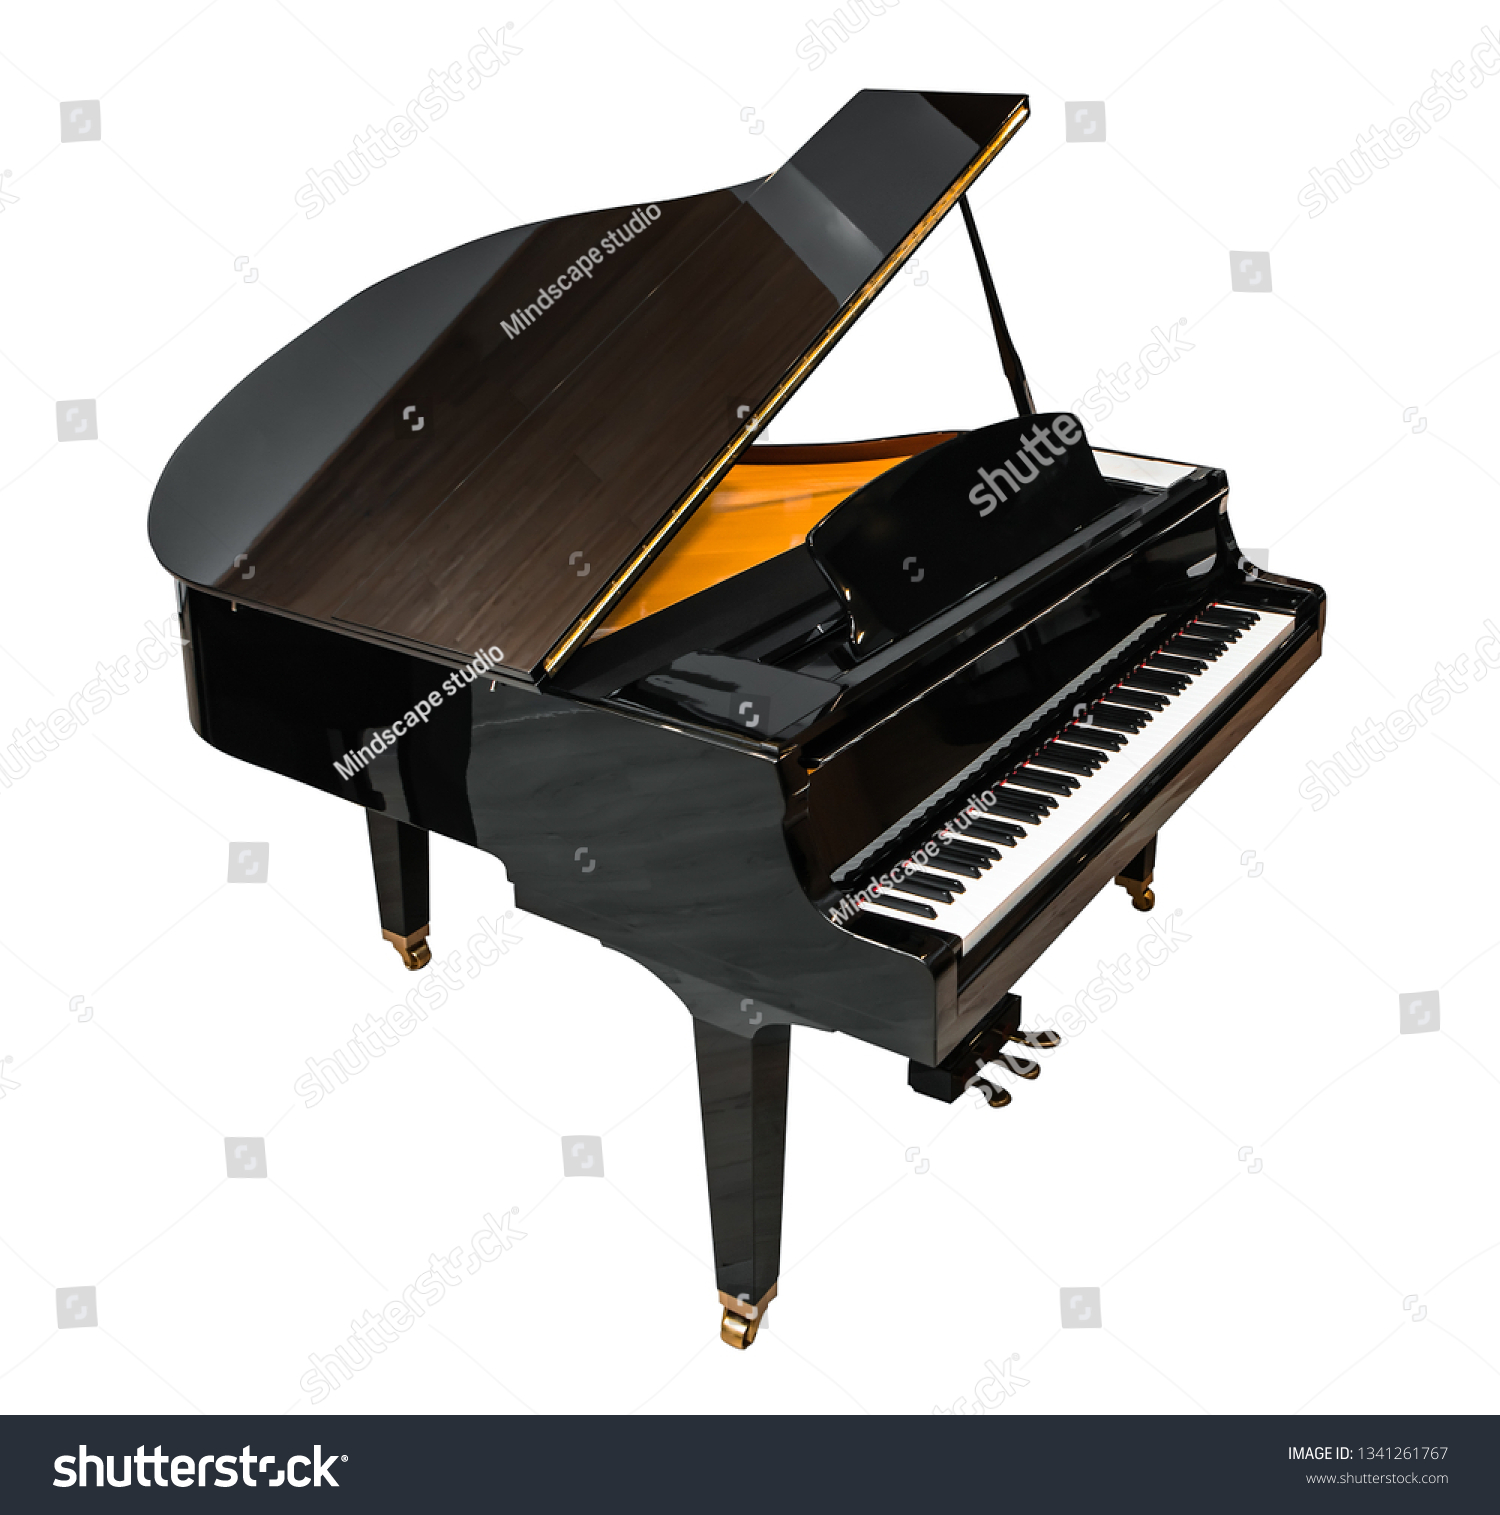Piano: (54, 76, 1365, 1321)
